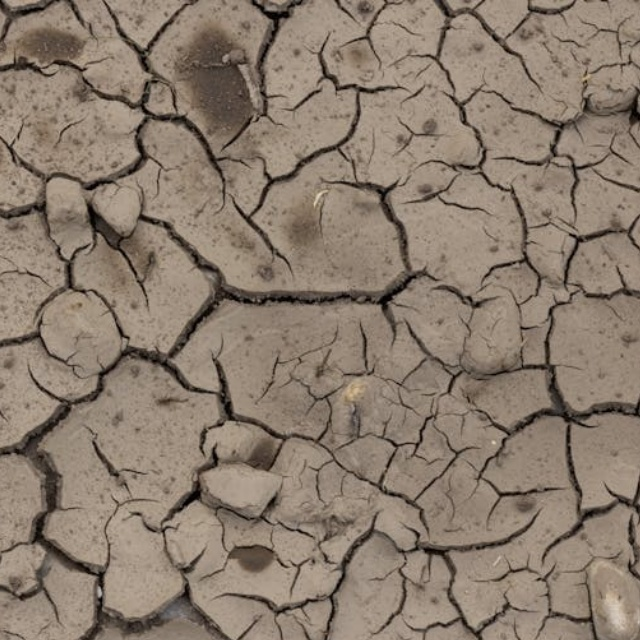细微裂纹: (79, 0, 640, 551), (451, 116, 640, 640), (449, 63, 590, 640), (494, 49, 624, 572), (84, 7, 195, 227)
网状裂隙: (13, 242, 640, 640), (0, 132, 371, 640)
